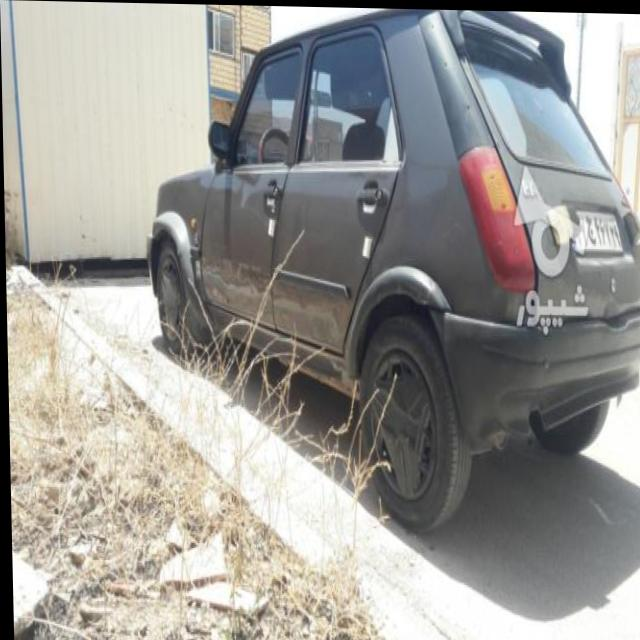licence: (564, 207, 620, 252)
